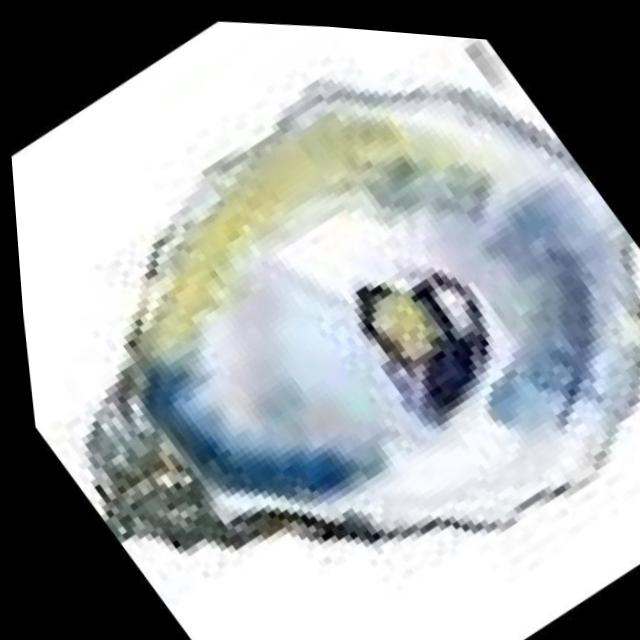Oyster-Open: (85, 81, 640, 550)
